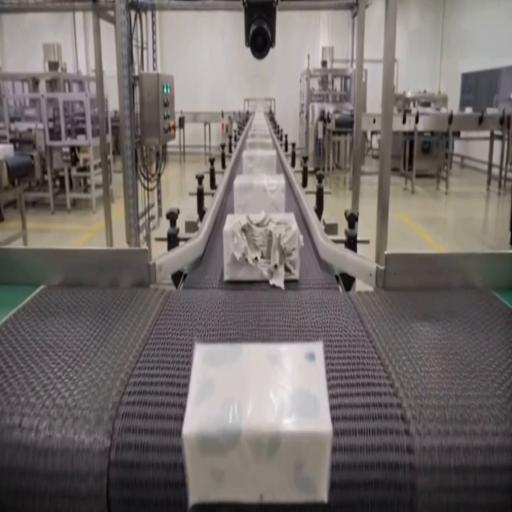defective: (223, 210, 302, 284)
good: (183, 340, 331, 507), (232, 173, 285, 217), (242, 148, 278, 179), (244, 130, 274, 151), (0, 143, 14, 161)
